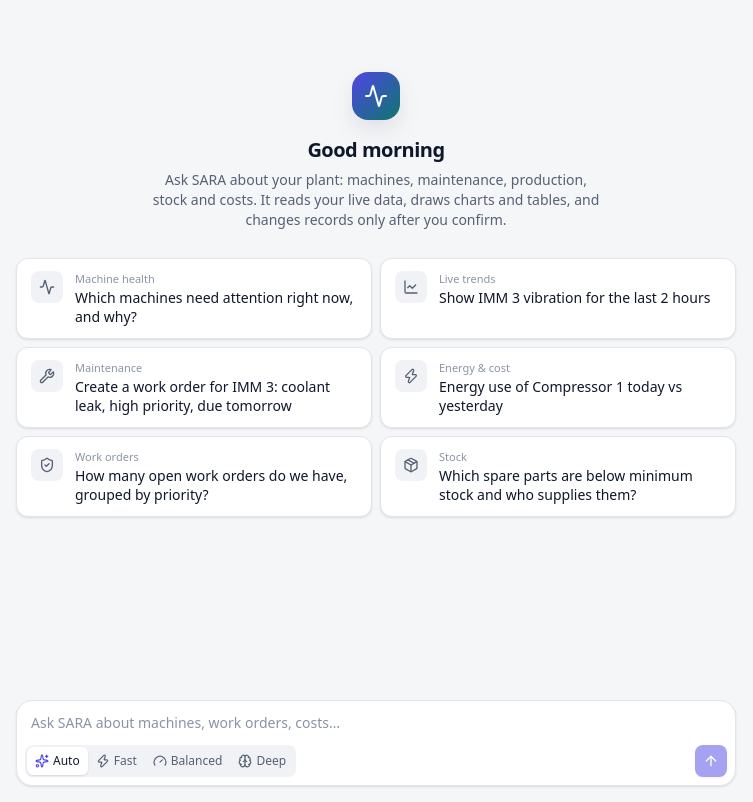
Test case: Thread end to end › sends, streams the SSE answer into the thread, and reports the new conversation
Type "How many open work orders?" into the text box named "Message SARA".
click(376, 723); type("How many open work orders?")  # box [17, 701, 735, 745]
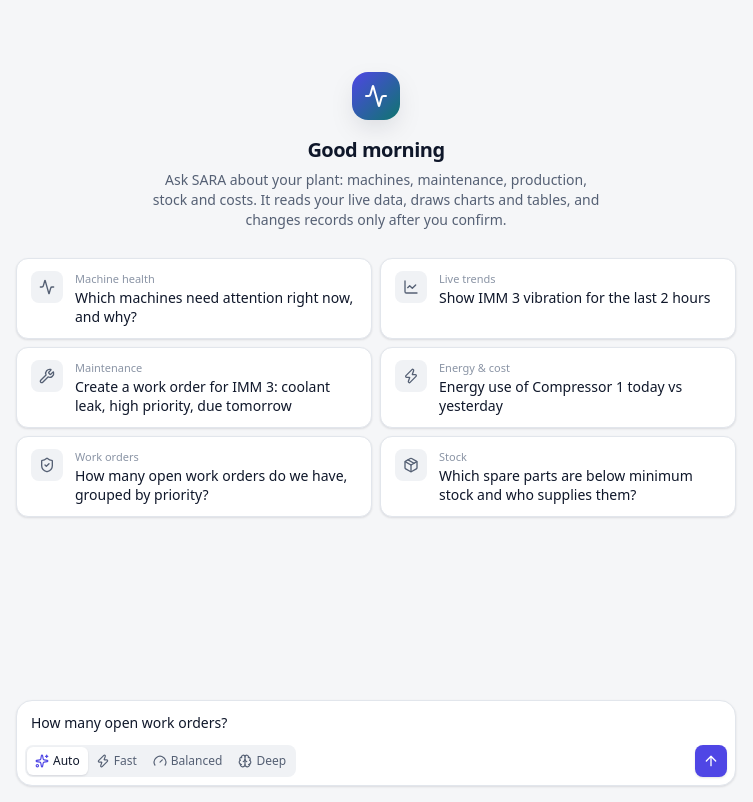
Press Enter in the text box named "Message SARA", box [17, 701, 735, 745]
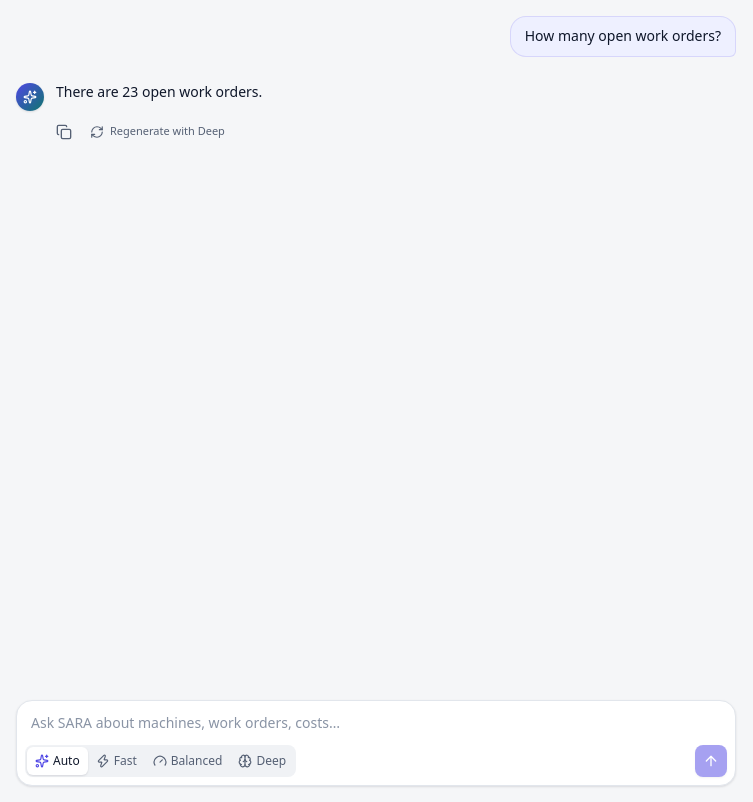
Expected: the text "There are 23 open work orders." is shown, [56, 82, 262, 101]
Expected: the text "How many open work orders?" is shown once, [510, 16, 736, 57]
